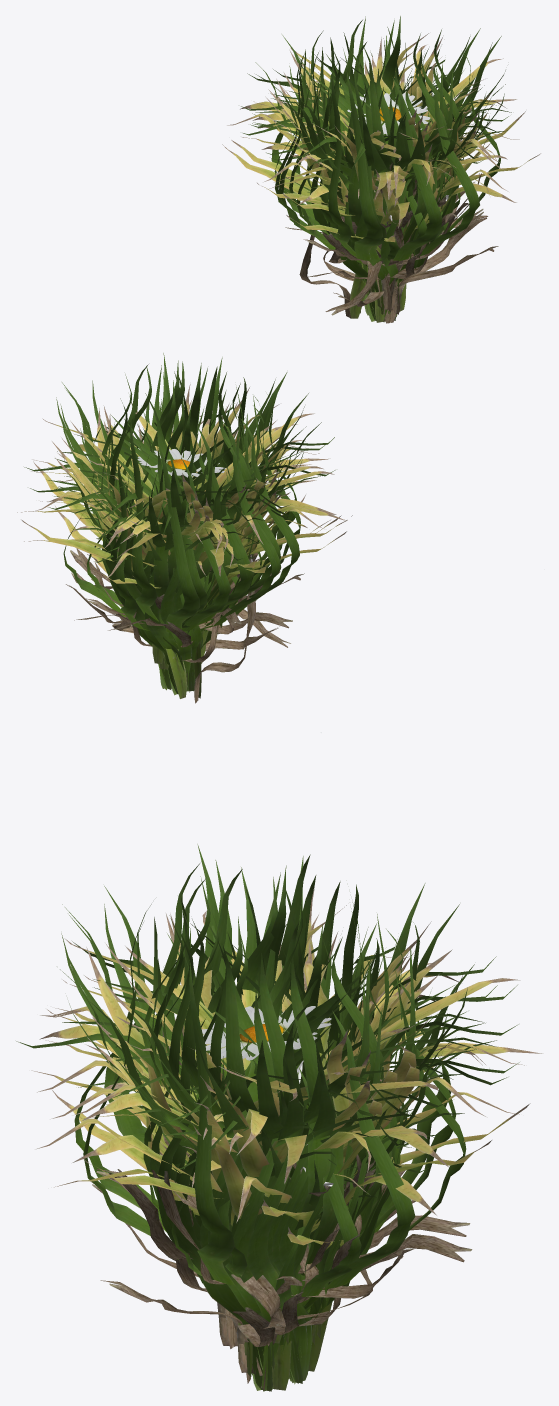
File: stellariadichotoma.glb
The picture shows the model from 3 angles, top to bottom: view 1: azimuth 30°, elevation 25°; view 2: azimuth 150°, elevation 25°; view 3: azimuth 270°, elevation 25°; orthographic projection. The views are drawn at different scales.
Parts seen in each view (by area): view 1: var1; view 2: var1; view 3: var1.
Part boxes in pixels (x1,y1,x2,y2): var1: [222, 16, 540, 323]; var1: [17, 353, 544, 703]; var1: [16, 732, 543, 1391].
Size of the model in its own units: 0.6464 by 0.3547 by 0.3503.
3 materials, 3 textured.
